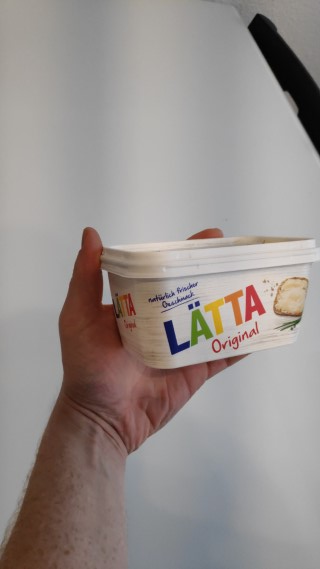laetta: (99, 235, 320, 371)
